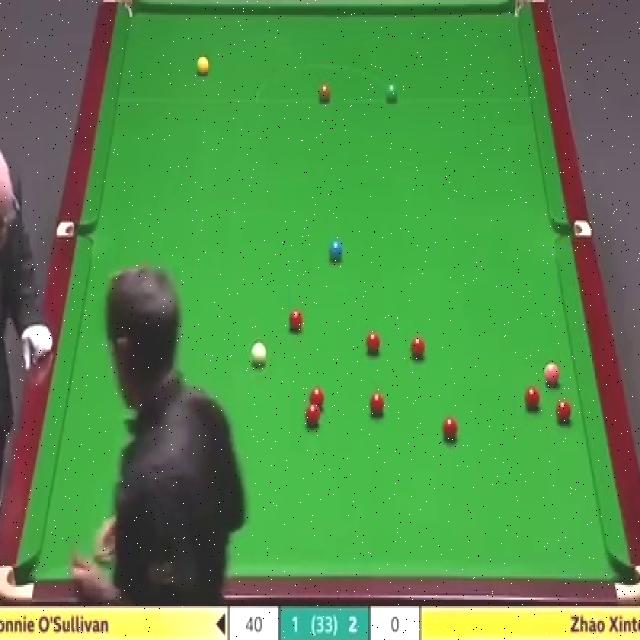blue-ball: (330, 238, 343, 262)
brown-ball: (317, 84, 333, 102)
green-ball: (384, 81, 400, 104)
pink-ball: (543, 361, 560, 385)
red-ball: (554, 399, 574, 424), (370, 390, 387, 419), (440, 417, 460, 441), (524, 385, 540, 411), (287, 310, 305, 333), (306, 404, 320, 430), (411, 335, 425, 360), (309, 388, 324, 410), (365, 334, 382, 353)
white-ball: (250, 341, 267, 370)
yellow-ball: (196, 54, 210, 78)
